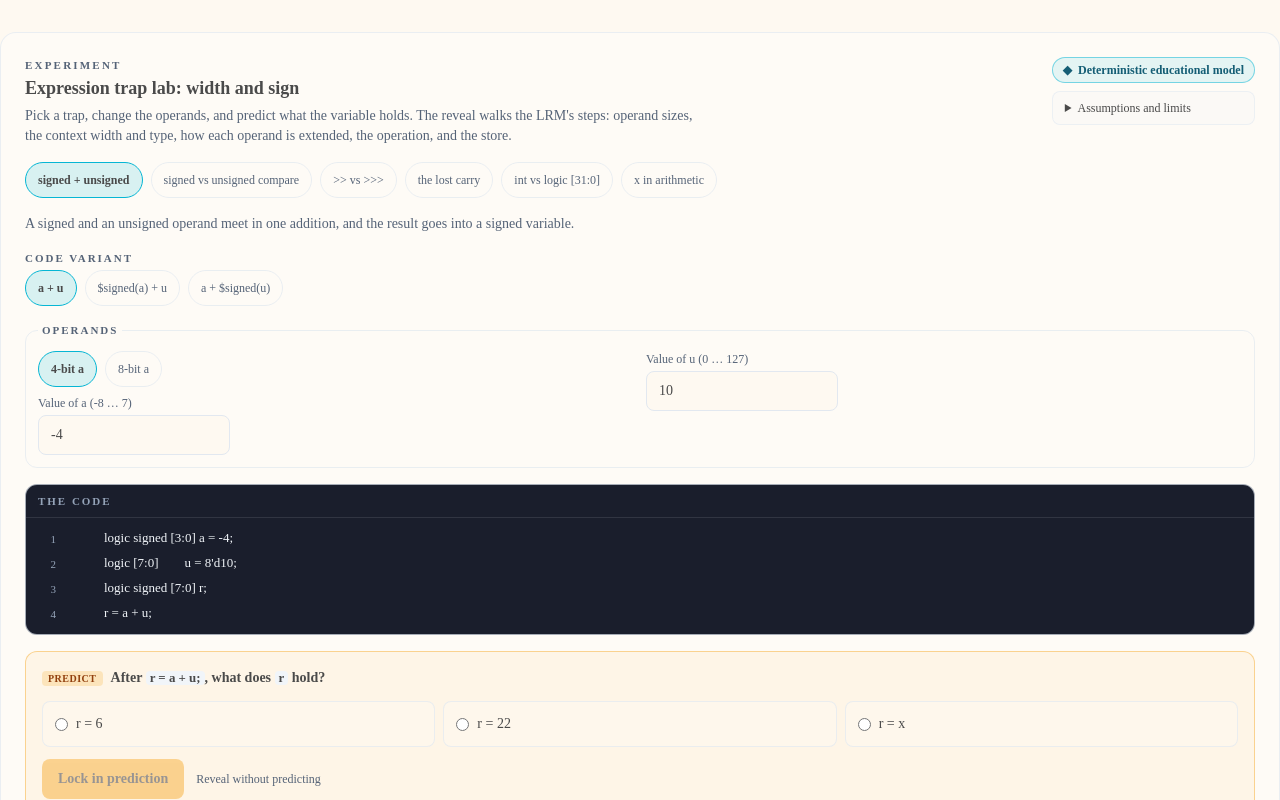
Test case: SignednessVisualizer (expression trap lab) › editing an operand re-runs the model, regenerates the code and resets the prediction
Click the button "Reveal without predicting" at (258, 779), box [196,771,321,787]
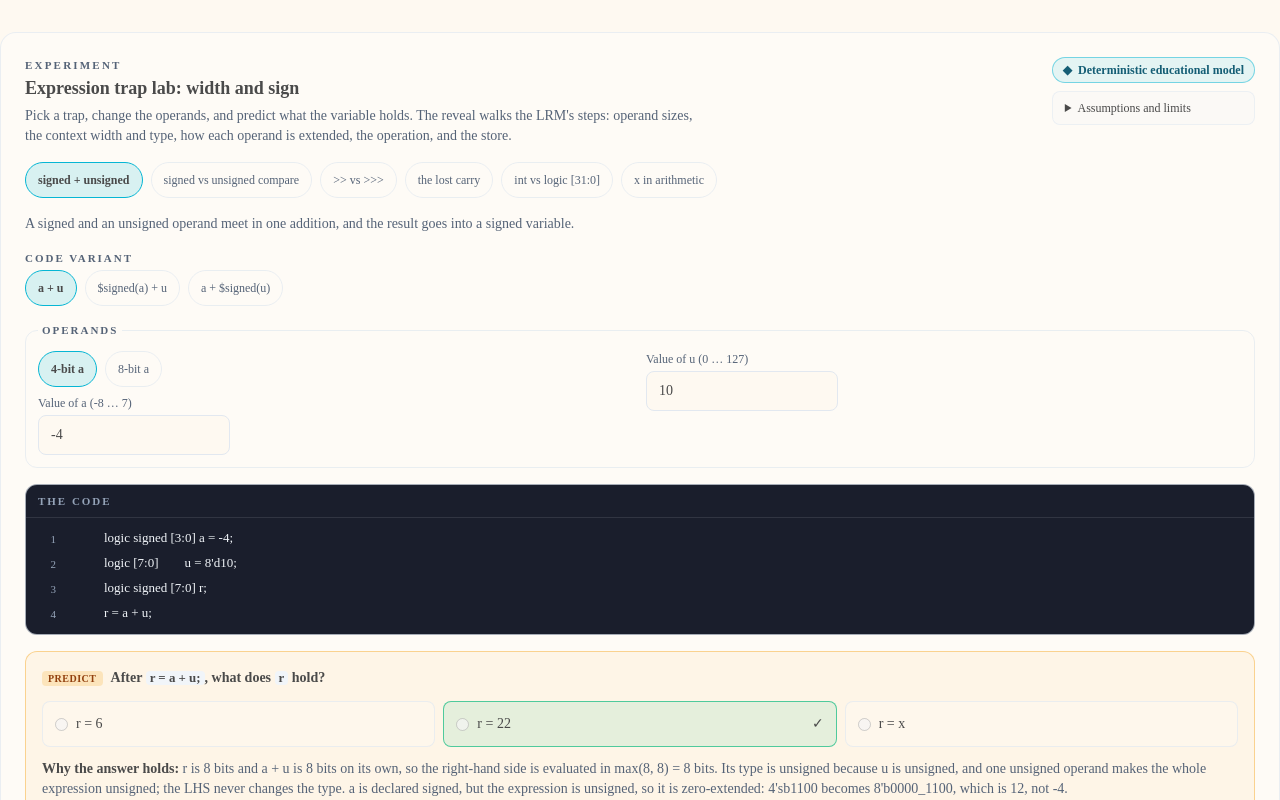
Replace the text in the number field labelled "Value of a (-8 … 7)" with "-1" at (134, 434), box [38,414,230,454]
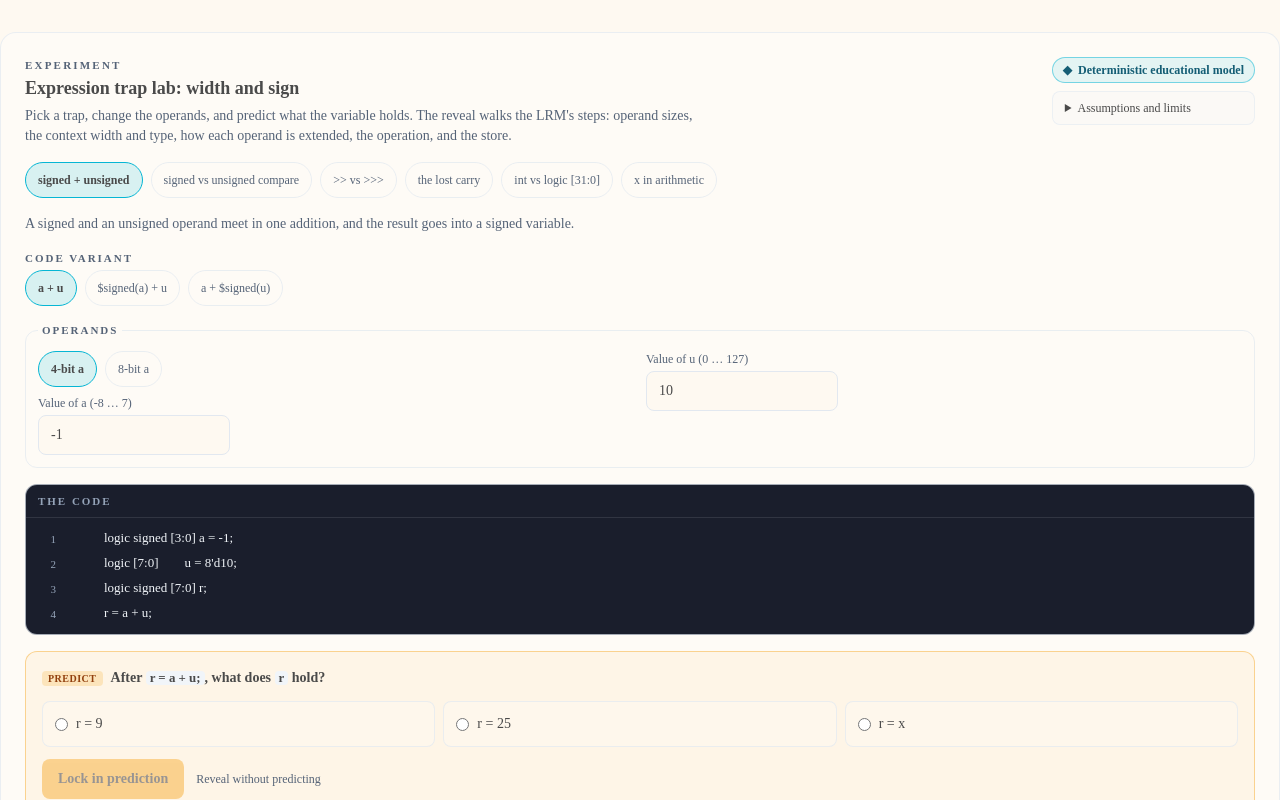
Check: the radio button labelled "r = 25" is shown, box [456,718,469,731]
Check: the text "logic signed [3:0] a = -1;" is shown, box [104,530,233,545]
